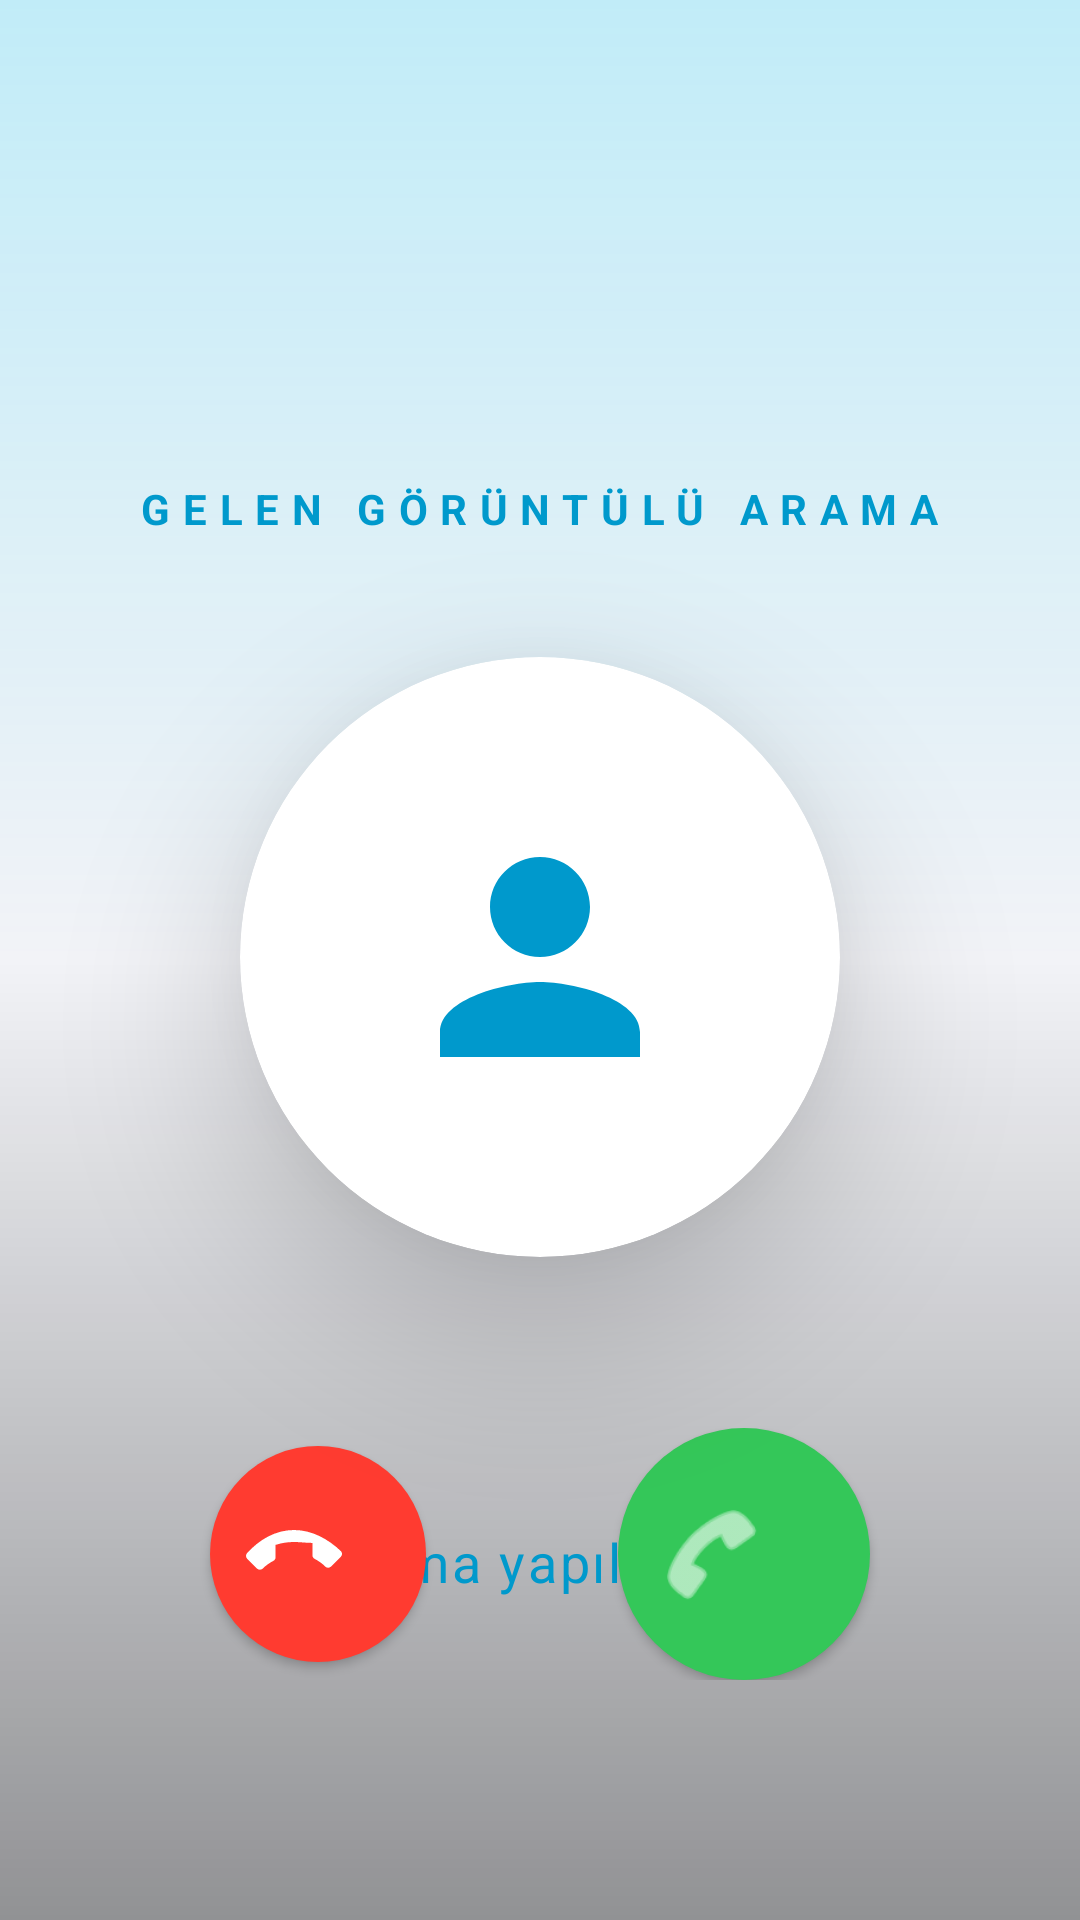

Icons on this 1080x1920 Android screen, each with the point to tap as (x=x, y=y):
call: (x=744, y=1554)
hangup: (x=318, y=1554)
